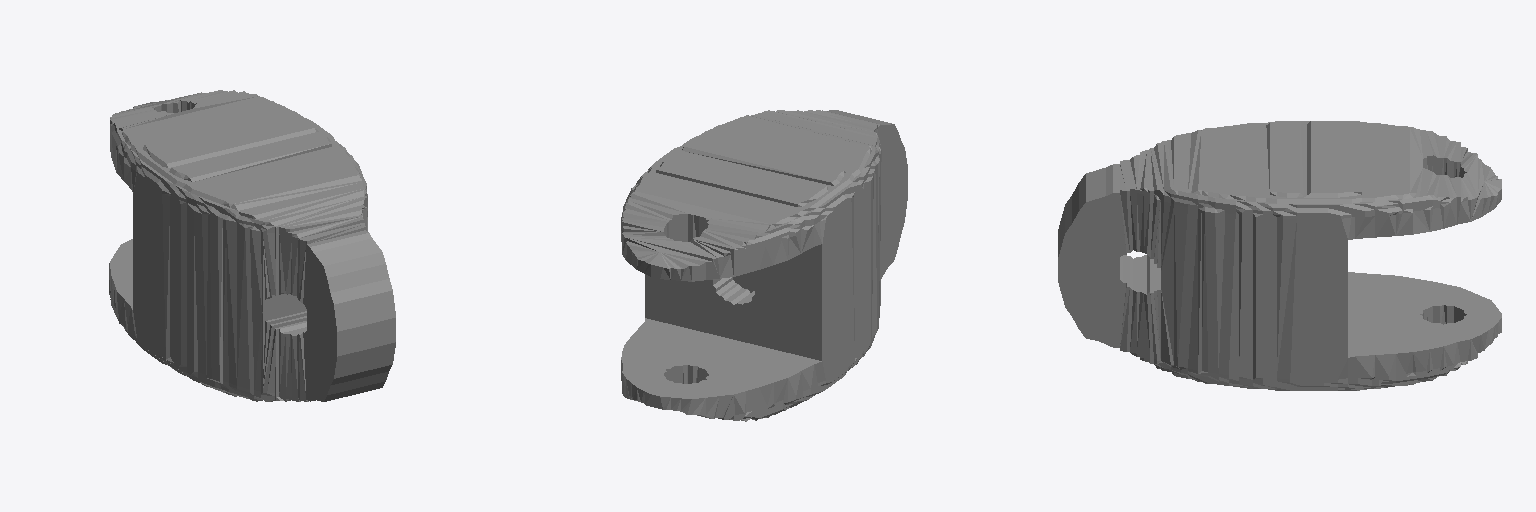
The picture shows the model from 3 angles: view 1: azimuth 30°, elevation 25°; view 2: azimuth 150°, elevation 25°; view 3: azimuth 270°, elevation 25°; orthographic projection.
Visible parts, largest first — view 1: _STL_BINARY_; view 2: _STL_BINARY_; view 3: _STL_BINARY_.
Part boxes in pixels (left/top/right/bottom): _STL_BINARY_: left=109, top=90, right=395, bottom=401; _STL_BINARY_: left=621, top=110, right=907, bottom=421; _STL_BINARY_: left=1058, top=121, right=1501, bottom=390.
Bounding box in the file's own units: 0.006 × 0.0064 × 0.013.